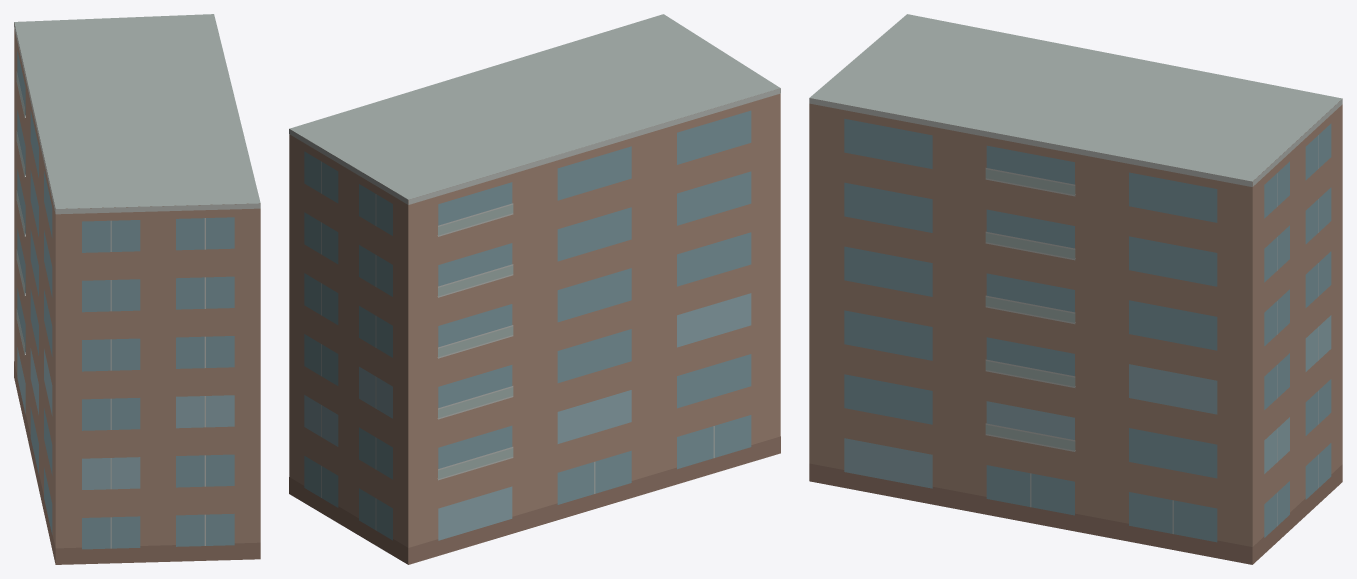
Rendered from survey-upis-32551323.glb.
The picture shows the model from 3 angles, left to right: view 1: azimuth 30°, elevation 25°; view 2: azimuth 150°, elevation 25°; view 3: azimuth 270°, elevation 25°; orthographic projection. The views are drawn at different scales.
Visible parts, largest first — view 1: survey-upis-32551323.tmp; view 2: survey-upis-32551323.tmp; view 3: survey-upis-32551323.tmp.
Boxes of the visible parts, x1,y1,x2,y2 form: survey-upis-32551323.tmp: [14, 14, 260, 564]; survey-upis-32551323.tmp: [289, 14, 780, 564]; survey-upis-32551323.tmp: [809, 14, 1342, 564].
Bounding box in the file's own units: 15.57 × 16.6 × 20.94.
